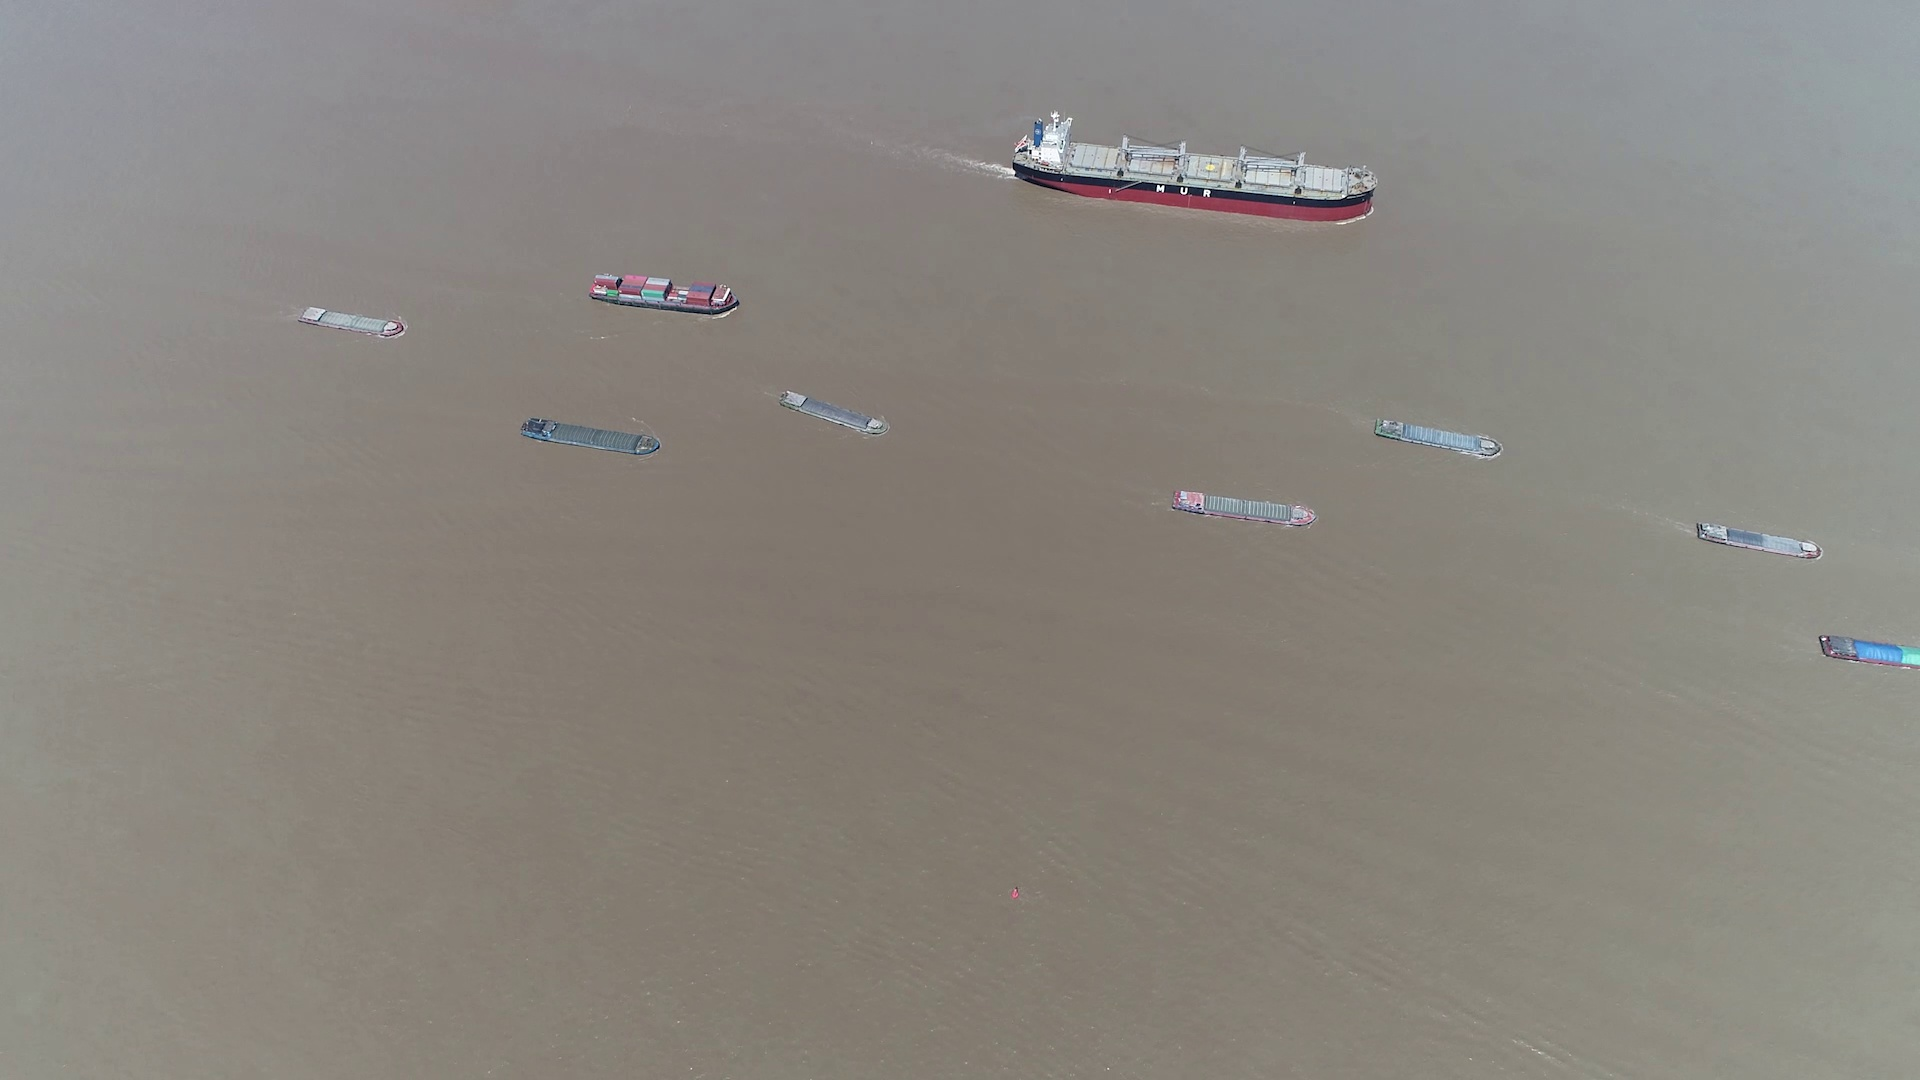ship: (1009, 113, 1375, 220), (588, 272, 738, 313), (1168, 488, 1316, 527), (1374, 417, 1503, 459), (1693, 520, 1822, 560), (778, 392, 889, 439), (522, 418, 659, 456), (298, 305, 409, 339), (1821, 636, 1920, 671)
